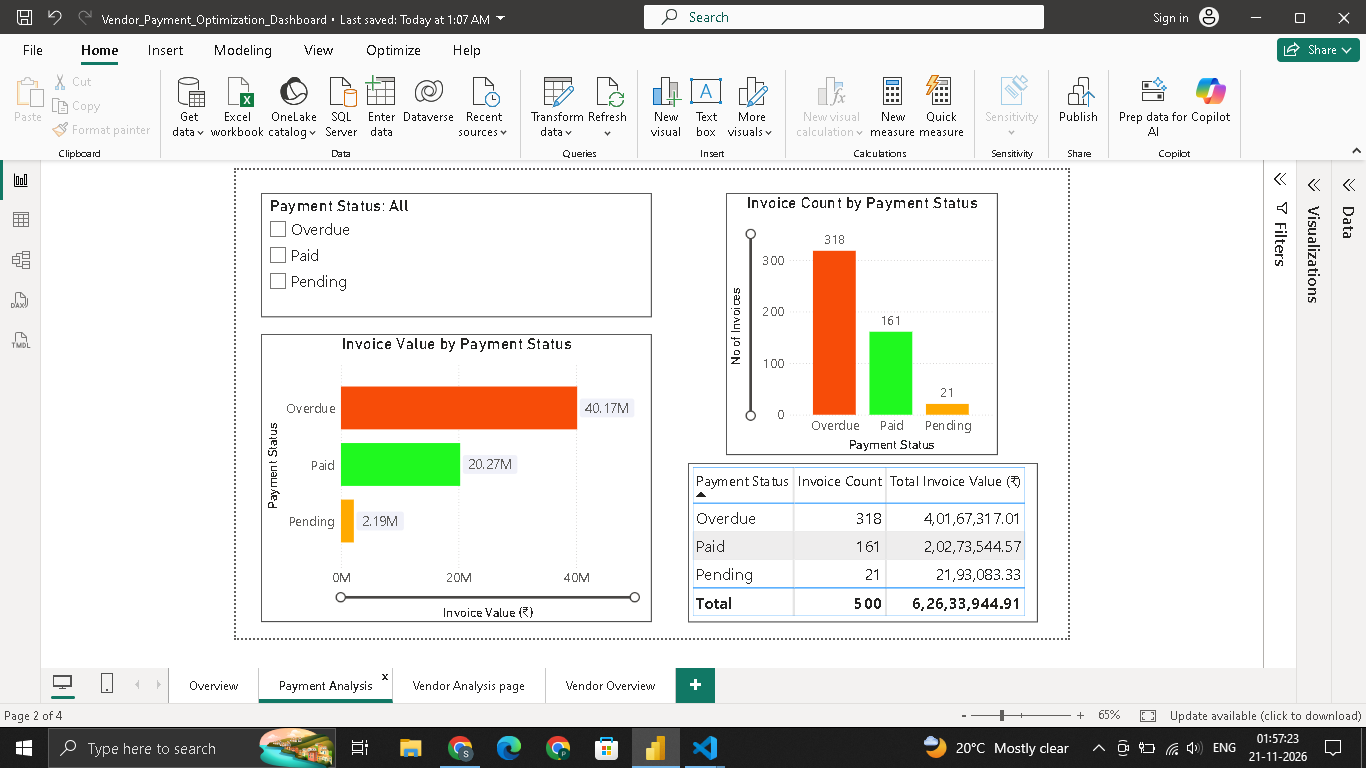

Layout of this report page (visuals, bound fields, positions):
{"tool":"powerbi","page":{"name":"Payment Analysis","canvas":[1280,720],"ordinal":1},"visuals":[{"type":"clusteredBarChart","title":"Invoice Value by Payment Status","fields":{"Category":["payment_status_summary.payment_status"],"Y":["Sum(payment_status_summary.invoice_value)"]},"box":[38.6,252,601.4,443.5],"z":0},{"type":"slicer","fields":{"Values":["payment_status_summary.payment_status"]},"box":[38.6,35.3,601.4,191.5],"z":1000},{"type":"clusteredColumnChart","title":"Invoice Count by Payment Status","fields":{"Category":["payment_status_summary.payment_status"],"Y":["Sum(payment_status_summary.invoice_count)"]},"box":[754.2,35.3,418.3,403.1],"z":2000},{"type":"tableEx","fields":{"Values":["payment_status_summary.payment_status","Sum(payment_status_summary.invoice_count)","Sum(payment_status_summary.invoice_value)"]},"box":[695.4,450.2,537.5,245.2],"z":3000}]}

Visuals, with their boxes on the page's 1280x720 design canvas (x1, y1, x2, y2). These are canvas units, not pixel positions in the 1366x768 screenshot, which may show the page scaled, cropped or inside an application window:
"Invoice Value by Payment Status" clusteredBarChart: box=[39, 252, 640, 696]
slicer - payment_status_summary.payment_status: box=[39, 35, 640, 227]
"Invoice Count by Payment Status" clusteredColumnChart: box=[754, 35, 1172, 438]
tableEx - payment_status_summary.payment_status x Sum(payment_status_summary.invoice_count): box=[695, 450, 1233, 695]
